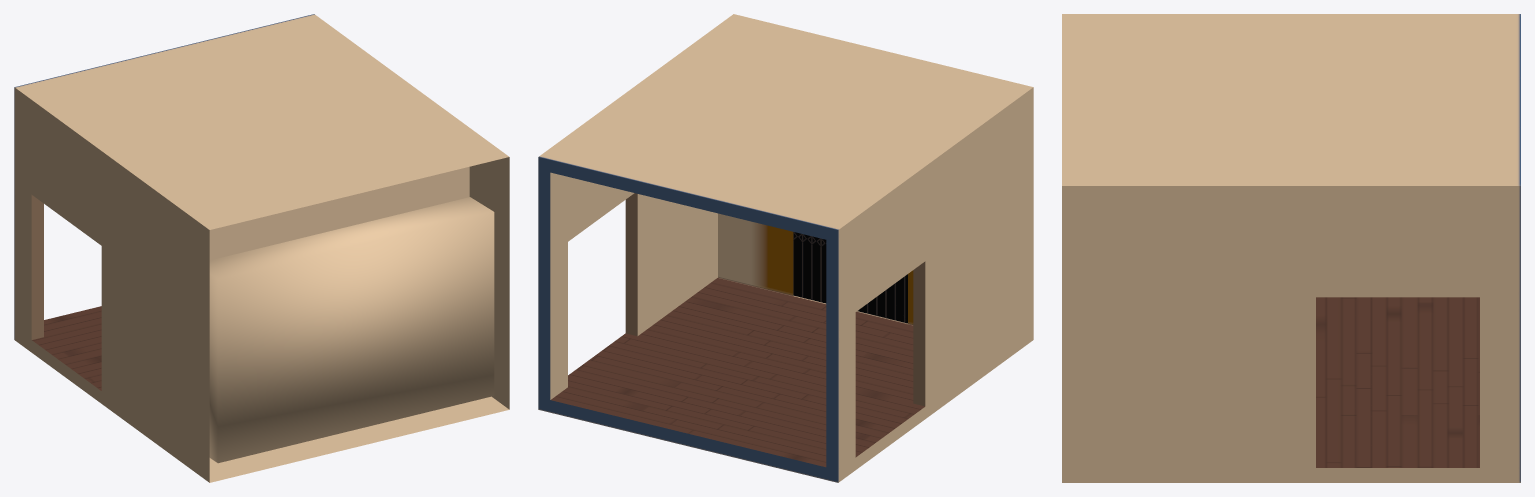
Rendered from ElevatorFBX.fbx.
3 views of the same model, side by side, from view 1: azimuth 30°, elevation 25°; view 2: azimuth 150°, elevation 25°; view 3: azimuth 270°, elevation 25° (orthographic). The views are drawn at different scales.
Visible parts, largest first — view 1: Room_Other_Elevator_Sz1; view 2: Room_Other_Elevator_Sz1, Cube; view 3: Room_Other_Elevator_Sz1.
Boxes of the visible parts, bbox=[...] form: Room_Other_Elevator_Sz1: bbox=[14, 14, 509, 482]; Room_Other_Elevator_Sz1: bbox=[538, 14, 1033, 482]; Cube: bbox=[793, 232, 907, 323]; Room_Other_Elevator_Sz1: bbox=[1062, 14, 1520, 482].
Bounding box in the file's own units: 497 × 400 × 560.
